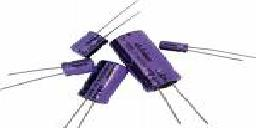Electrolytic-capacitor: (112, 29, 193, 128), (79, 60, 128, 114), (160, 36, 256, 63), (64, 30, 112, 57), (60, 58, 100, 75)
